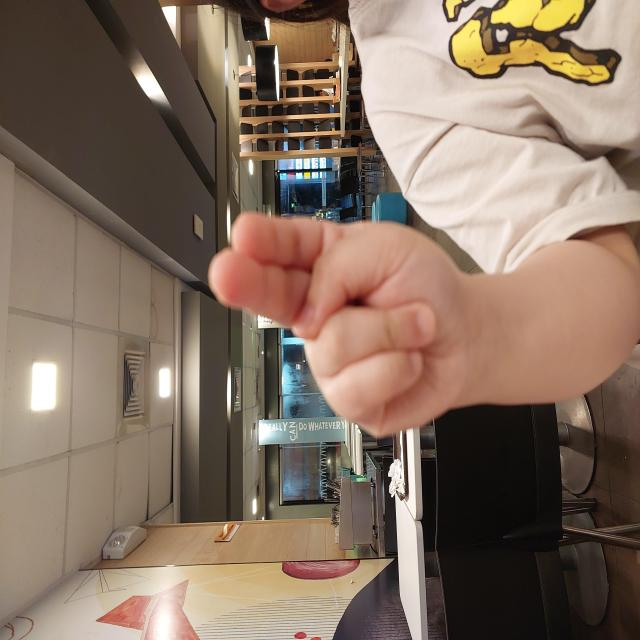N: (200, 207, 429, 474)
